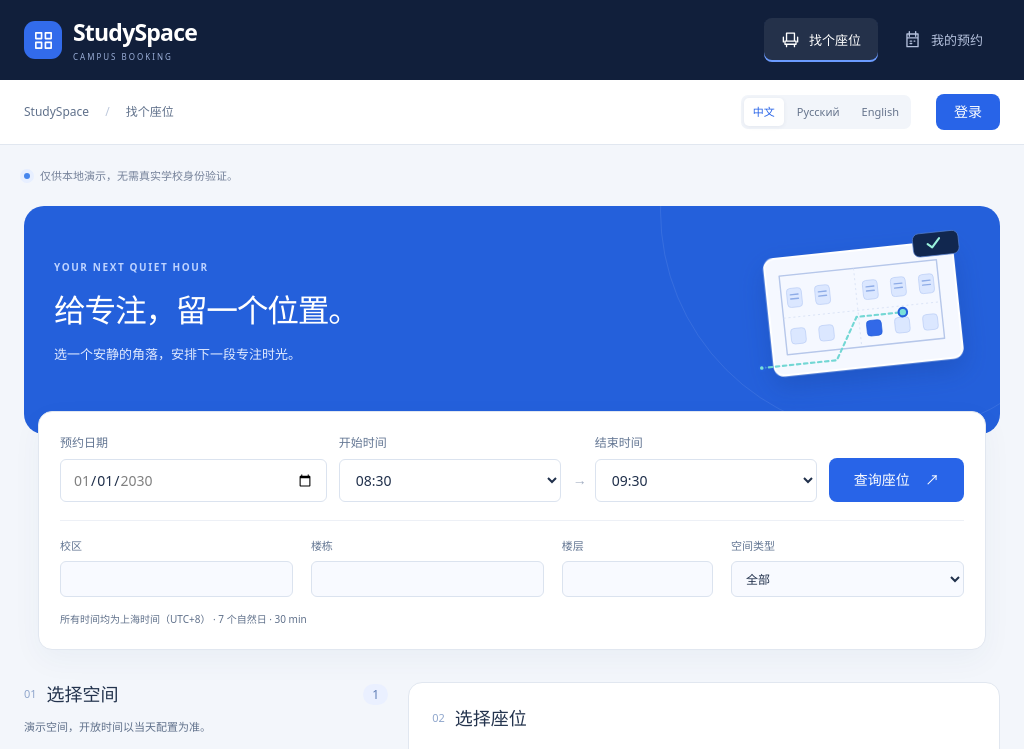
Test: local reservation application › registers a local account and reports incorrect credentials inside the form
Step 1. Click the button "登录" → (968, 112), box [936,94,1000,130]
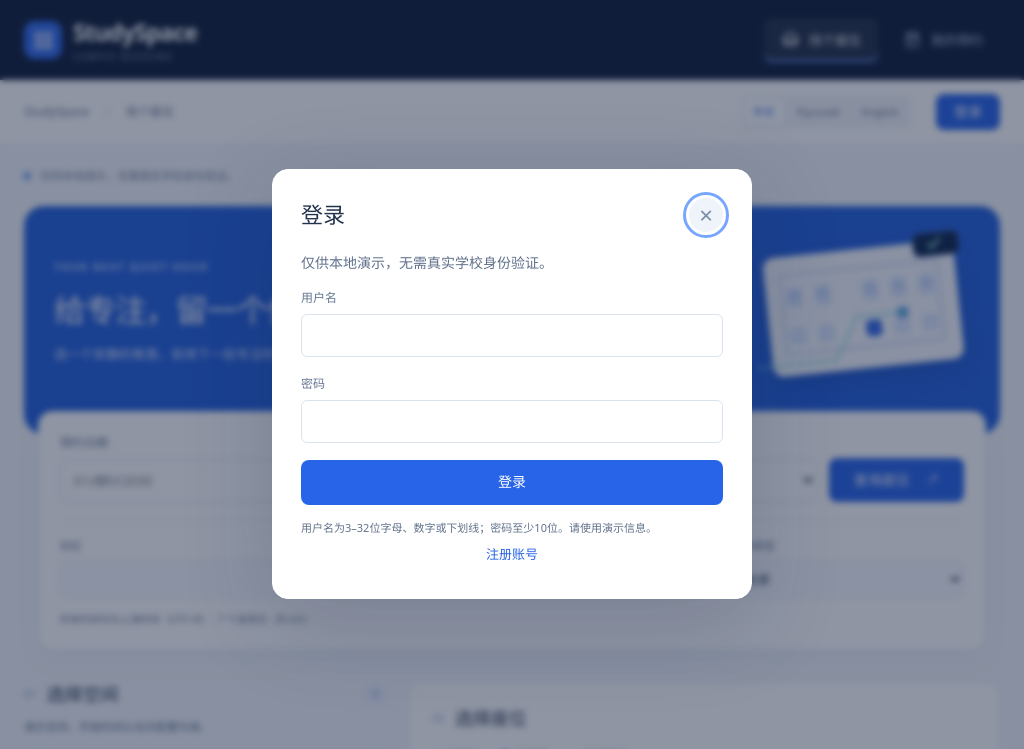
Step 2. Type "demo_student" into the field labelled "用户名" → (512, 336), box [301,314,723,357]
Step 3. Type "wrong-password" into the password field labelled "密码" → (512, 422), box [301,400,723,443]
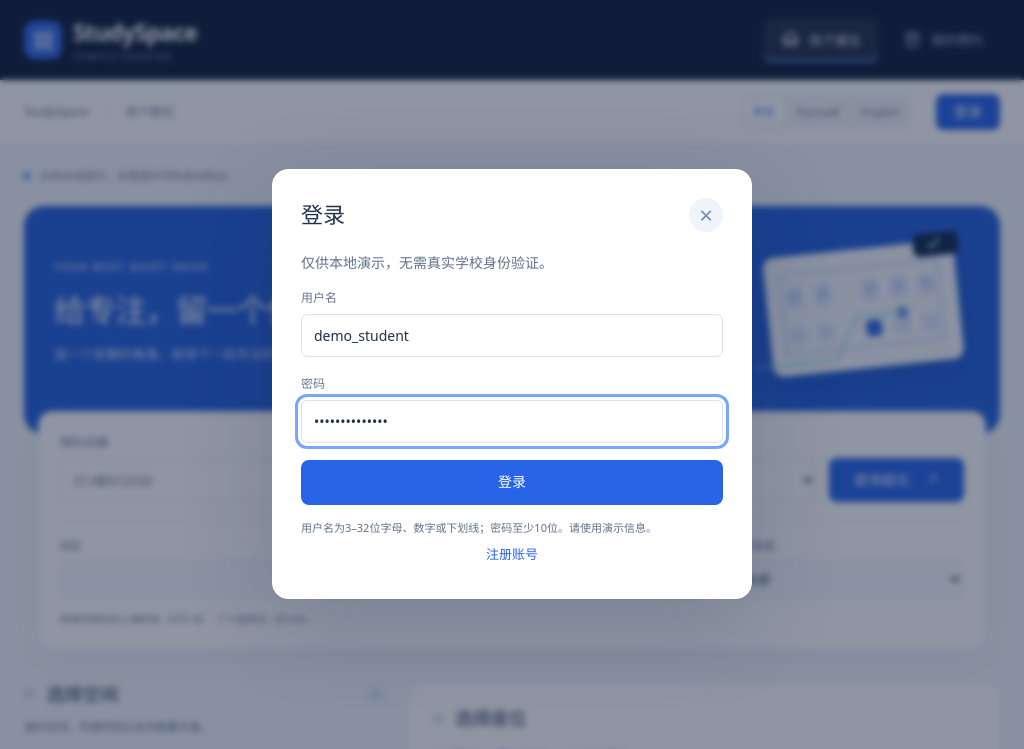
Step 4. Click the button "登录" → (512, 483), box [301,460,723,505]
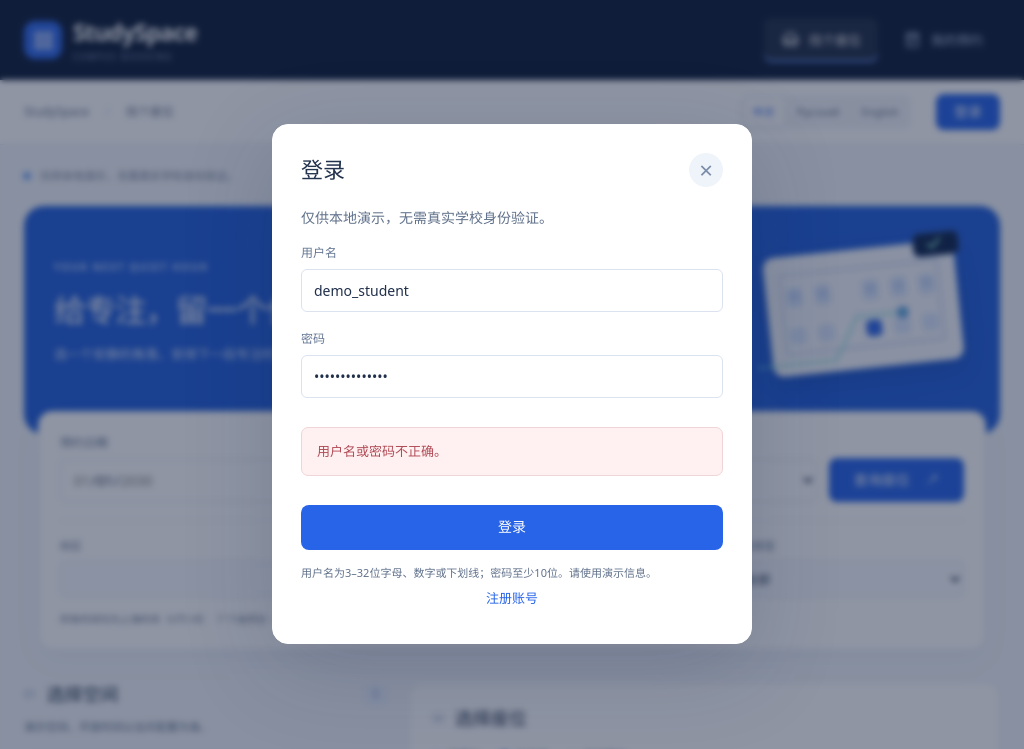
Expected: the text "用户名或密码不正确。" is shown, [317,442,447,462]
Step 5. Click the button "注册账号" → (512, 599), box [301,582,723,615]
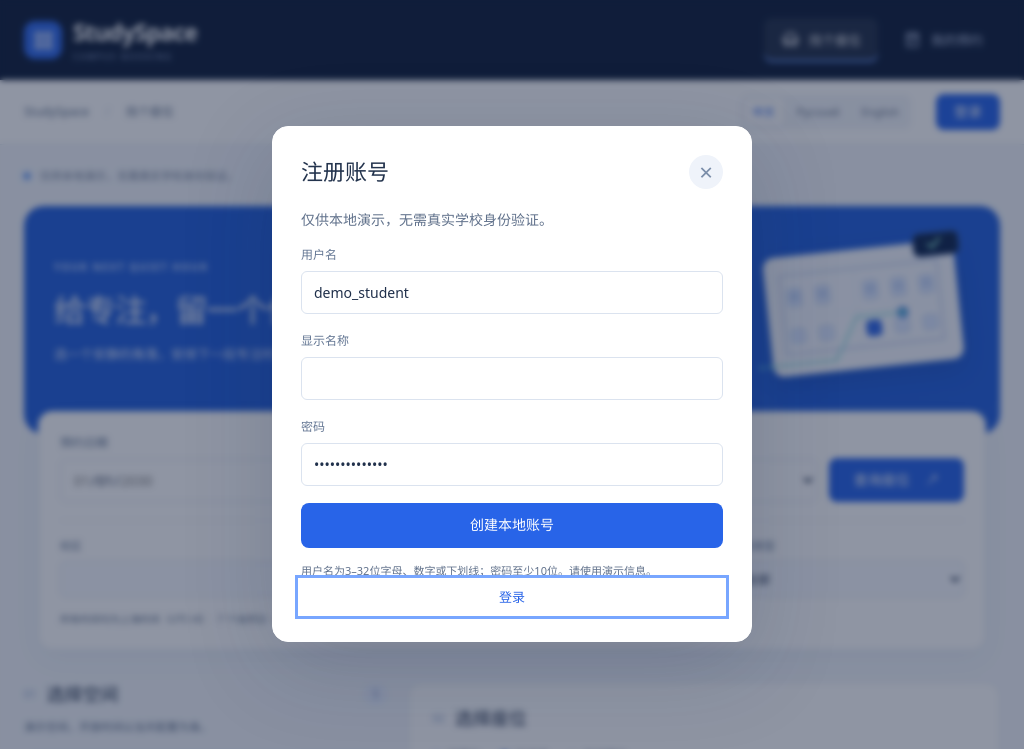
Step 6. Type "演示同学" into the field labelled "显示名称" → (512, 379), box [301,357,723,400]
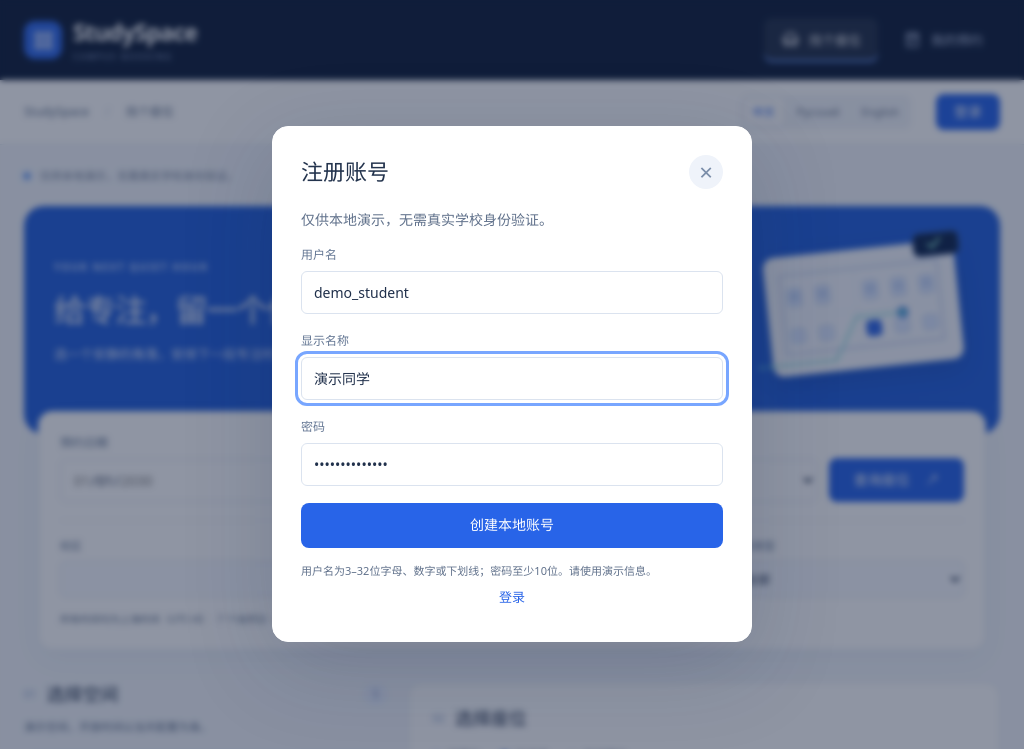
Step 7. Type "Local-demo-password42!" into the password field labelled "密码" → (512, 465), box [301,444,723,486]
Step 8. Click the button "创建本地账号" → (512, 526), box [301,504,723,548]
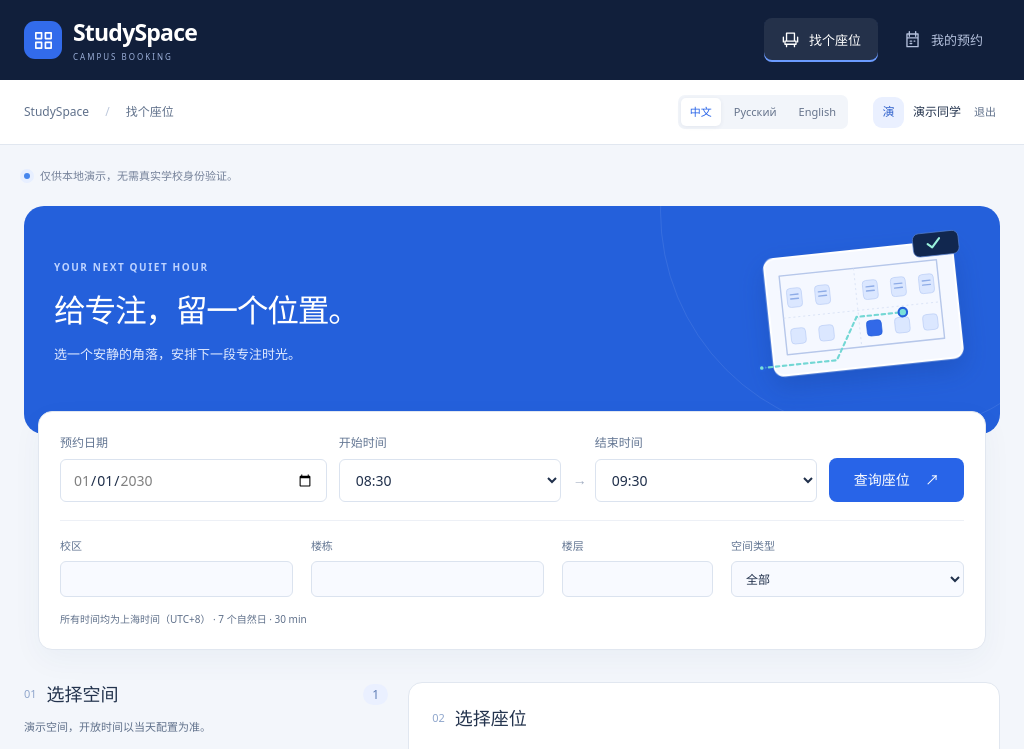
Expected: the text "演示同学" is shown, [913,102,961,122]
Expected: the dialog is gone
